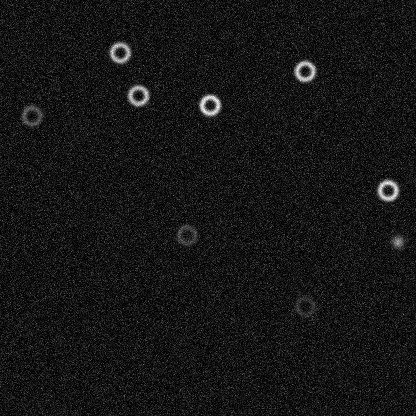Ring: (292, 59, 316, 83), (174, 223, 198, 247), (375, 178, 399, 202), (126, 83, 150, 107), (197, 93, 221, 117), (292, 294, 316, 318), (107, 40, 131, 64), (19, 103, 43, 127)
Spot: (389, 233, 405, 249)
